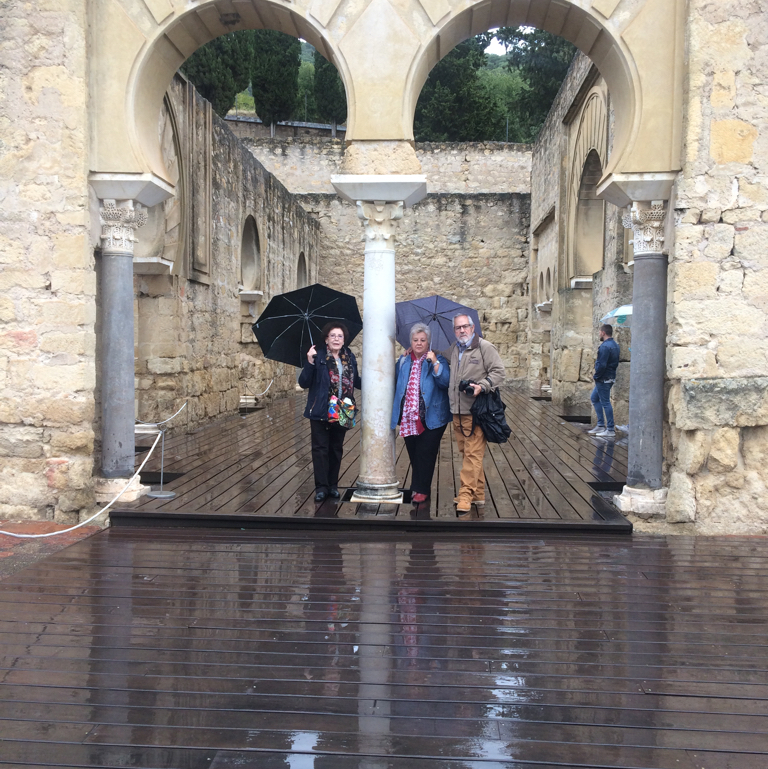arco-herradura: (380, 1, 657, 242), (111, 1, 381, 239)
